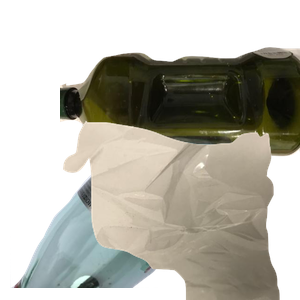cardboard: (77, 79, 251, 227)
glass: (10, 120, 224, 300)
plastic: (60, 44, 300, 195)
trash: (61, 120, 300, 300)
